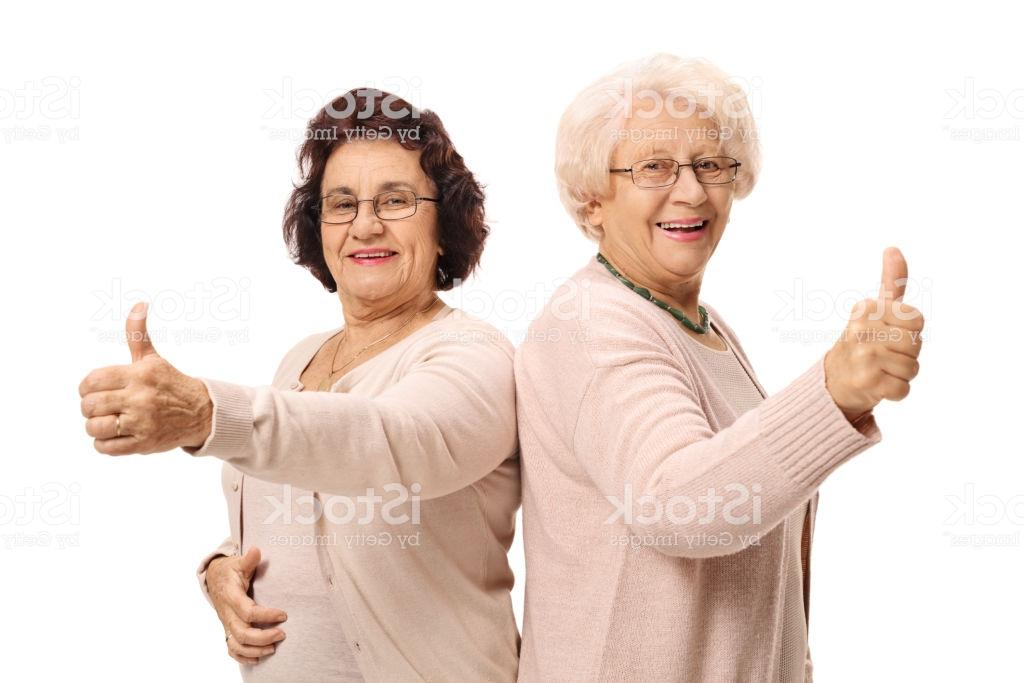thumbsup: (76, 299, 173, 460), (844, 244, 926, 405)
